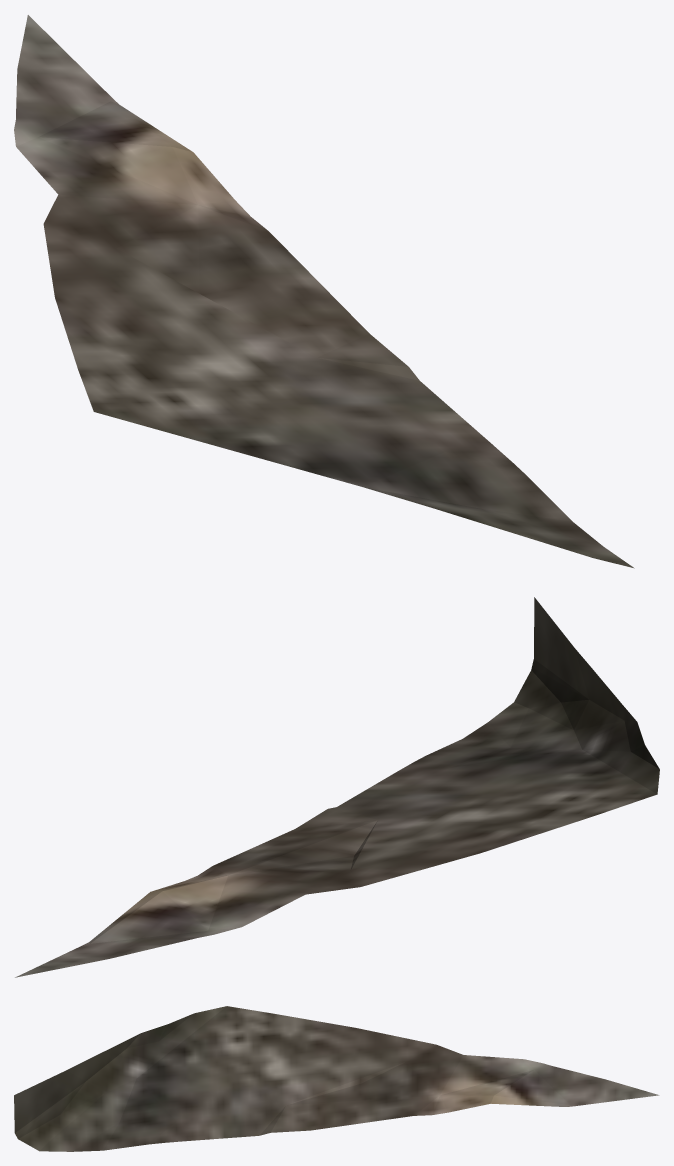
3 views of the same model, one above another, from view 1: azimuth 30°, elevation 25°; view 2: azimuth 150°, elevation 25°; view 3: azimuth 270°, elevation 25° (orthographic). The views are drawn at different scales.
Bounding box in the file's own units: 0.1278 × 0.0378 × 0.391.
1 material, 1 textured.
